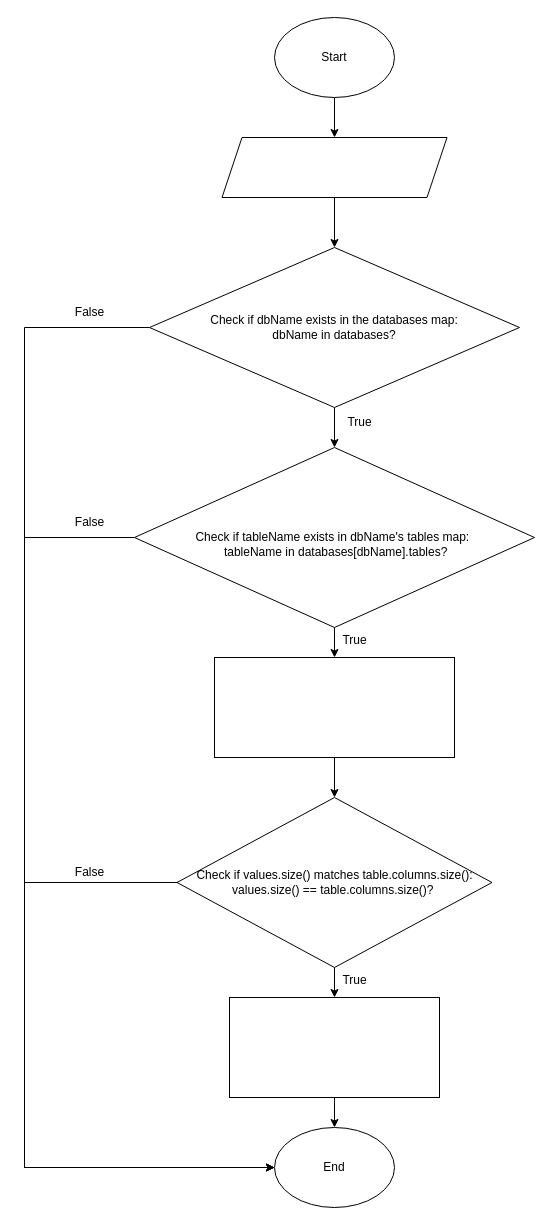
This 552x1225 diagram has some shape labels left out. The centre of each missing label's shape, as x and y in pixels:
Input dbName , tableName , values: (x=334, y=167)
Insert row: table.rows.push_back(values);: (x=334, y=1047)
Reference table: Table &table = databases[dbName].tables[tableName];: (x=334, y=707)
